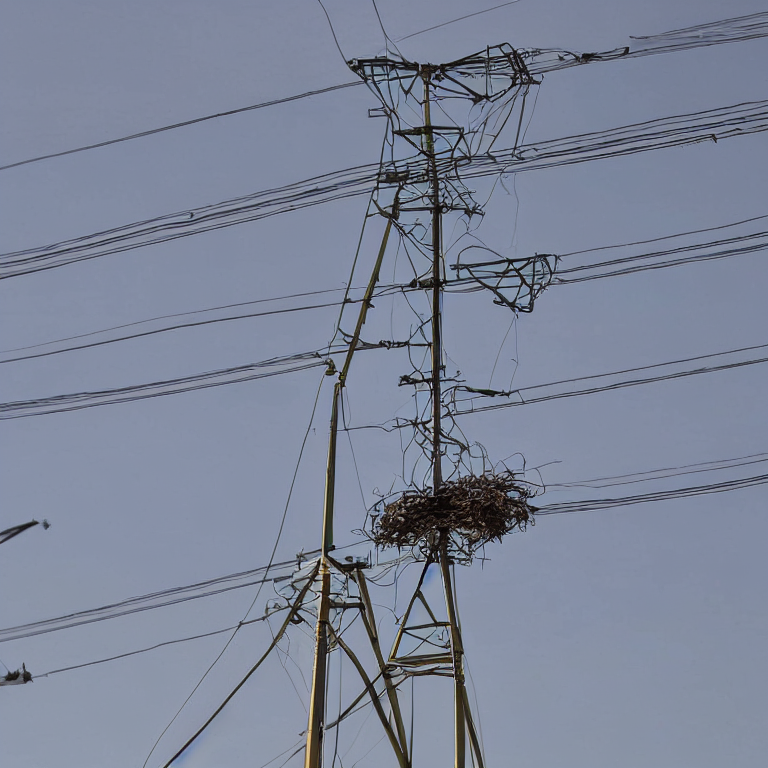nest: (381, 480, 532, 550)
